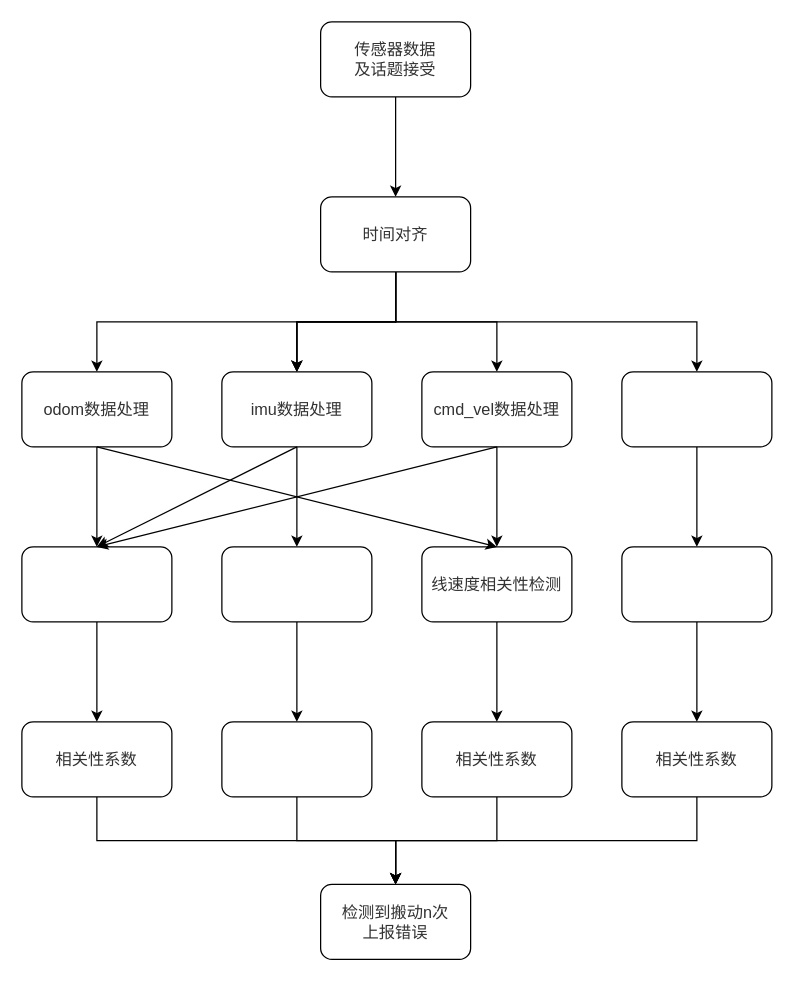
Image size: 794x981. Some labels were removed from this diagram. The shapes that lost their labels are listed below. From the top down, each one's centre as x and y in pixels, then its label:
At (x=696, y=409): "scan数据处理".
At (x=96, y=584): "角速度相关性检测".
At (x=296, y=584): "imu数据的检测".
At (x=696, y=584): "激光前后帧 相关性检测".
At (x=296, y=759): "分析imu角速度 和 加速度值过 滤掉 斜坡和坎".
